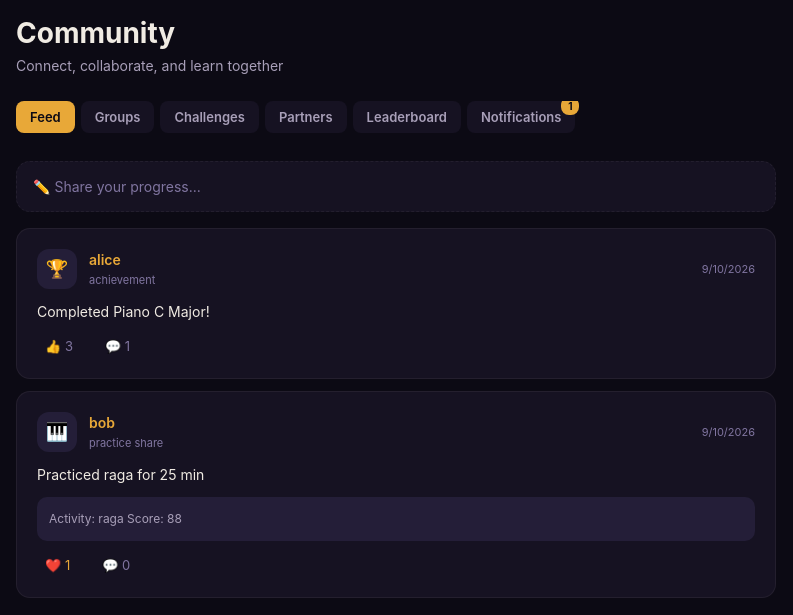
Test: Community Page › switches to groups tab
Expected: the heading "Community" is shown, [16,16,175,50]
Step 1. Click the button "Groups" → (118, 117), box [81,101,154,133]
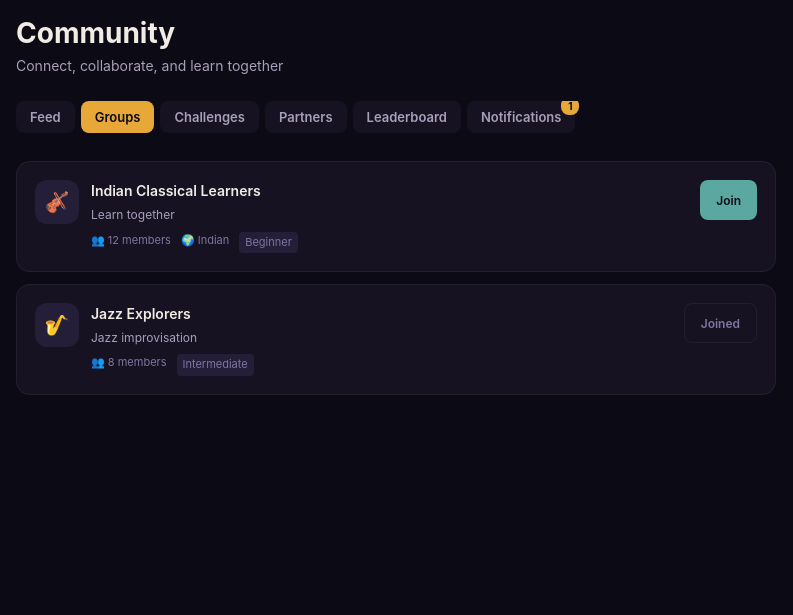
Result: the text "Indian Classical Learners" is shown at [91,182,261,199]
Result: the text "Jazz Explorers" is shown at [91,305,191,322]
